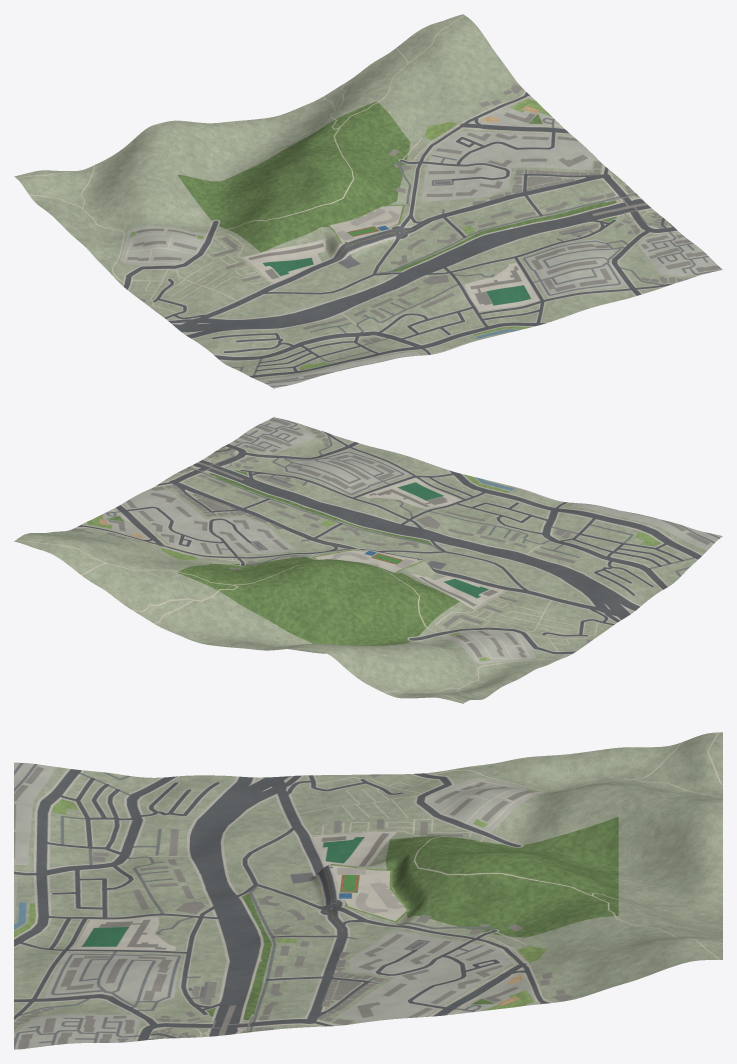
The picture shows the model from 3 angles, top to bottom: view 1: azimuth 30°, elevation 25°; view 2: azimuth 150°, elevation 25°; view 3: azimuth 270°, elevation 25°; orthographic projection. The views are drawn at different scales.
Parts seen in each view (by area): view 1: ground-area, ground-school; view 2: ground-area, ground-school; view 3: ground-area, ground-school.
Boxes of the visible parts, x1,y1,x2,y2 form: ground-area: (14, 14, 722, 388); ground-school: (294, 188, 447, 263); ground-area: (14, 417, 722, 703); ground-school: (289, 533, 442, 580); ground-area: (14, 732, 722, 1049); ground-school: (308, 845, 428, 933).
Size of the model in its own units: 992 by 181 by 992.
Materials: 3 (3 with a texture image).
